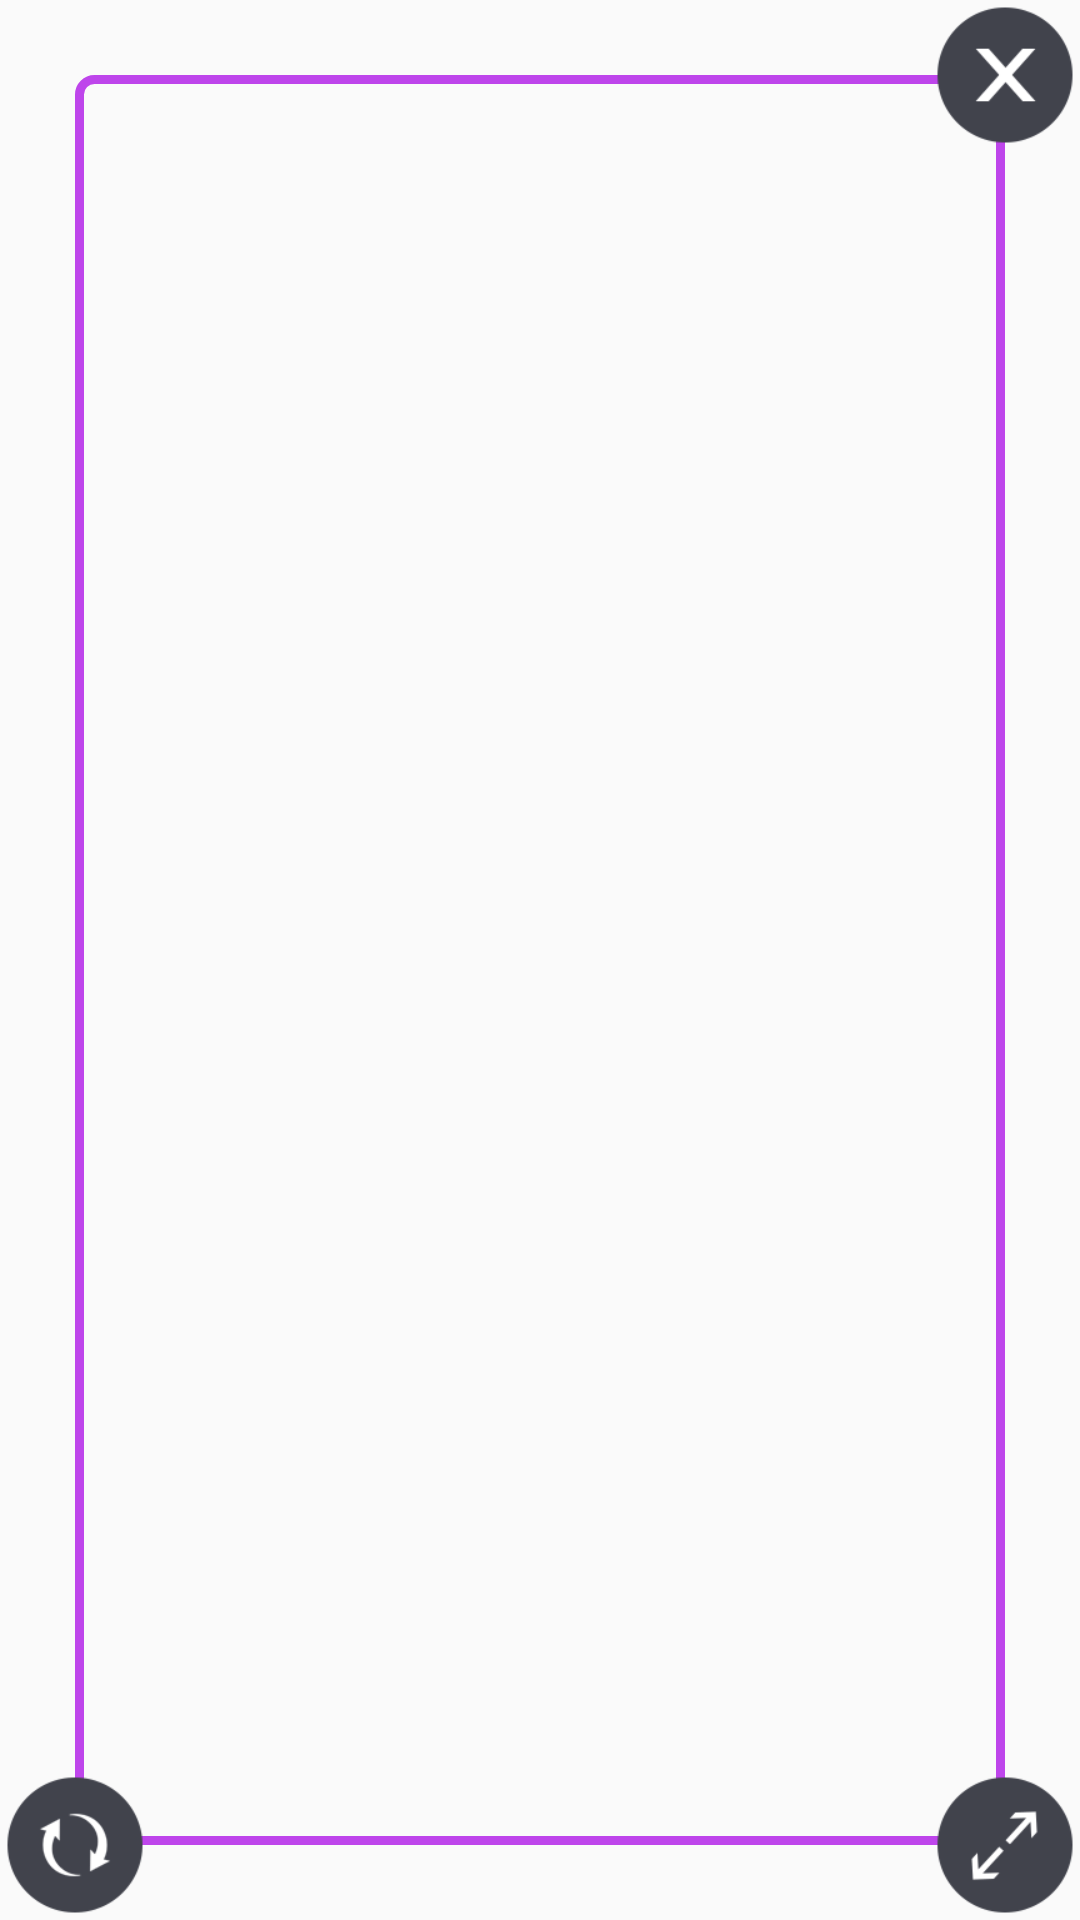

Locate icon controls on the screen. Image size 1080*1920, boxes as box(x1, y1, x2, y2).
close: box(930, 7, 1073, 150)
rotate: box(7, 1770, 150, 1913)
scale: box(930, 1770, 1073, 1913)
